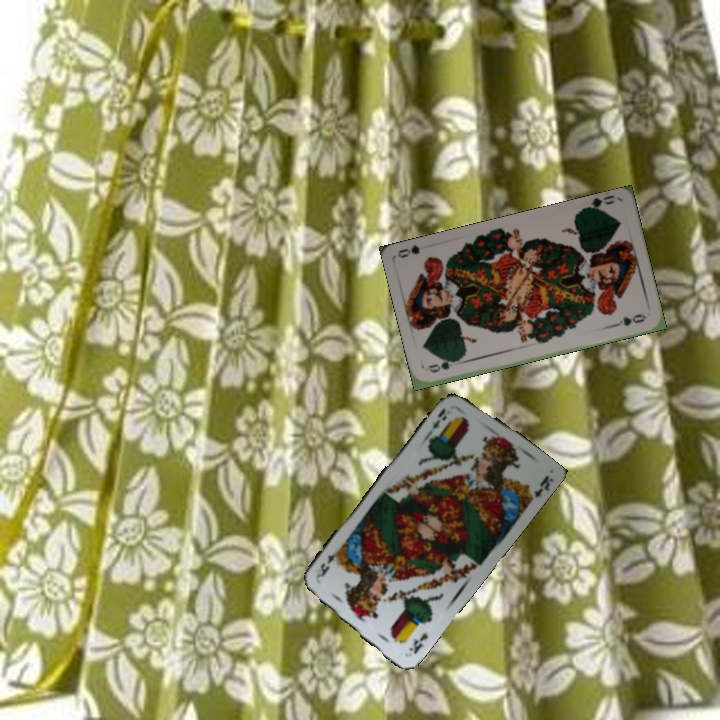EK: (405, 628, 431, 656), (428, 404, 449, 431)
GO: (579, 192, 617, 215), (424, 354, 463, 375)
